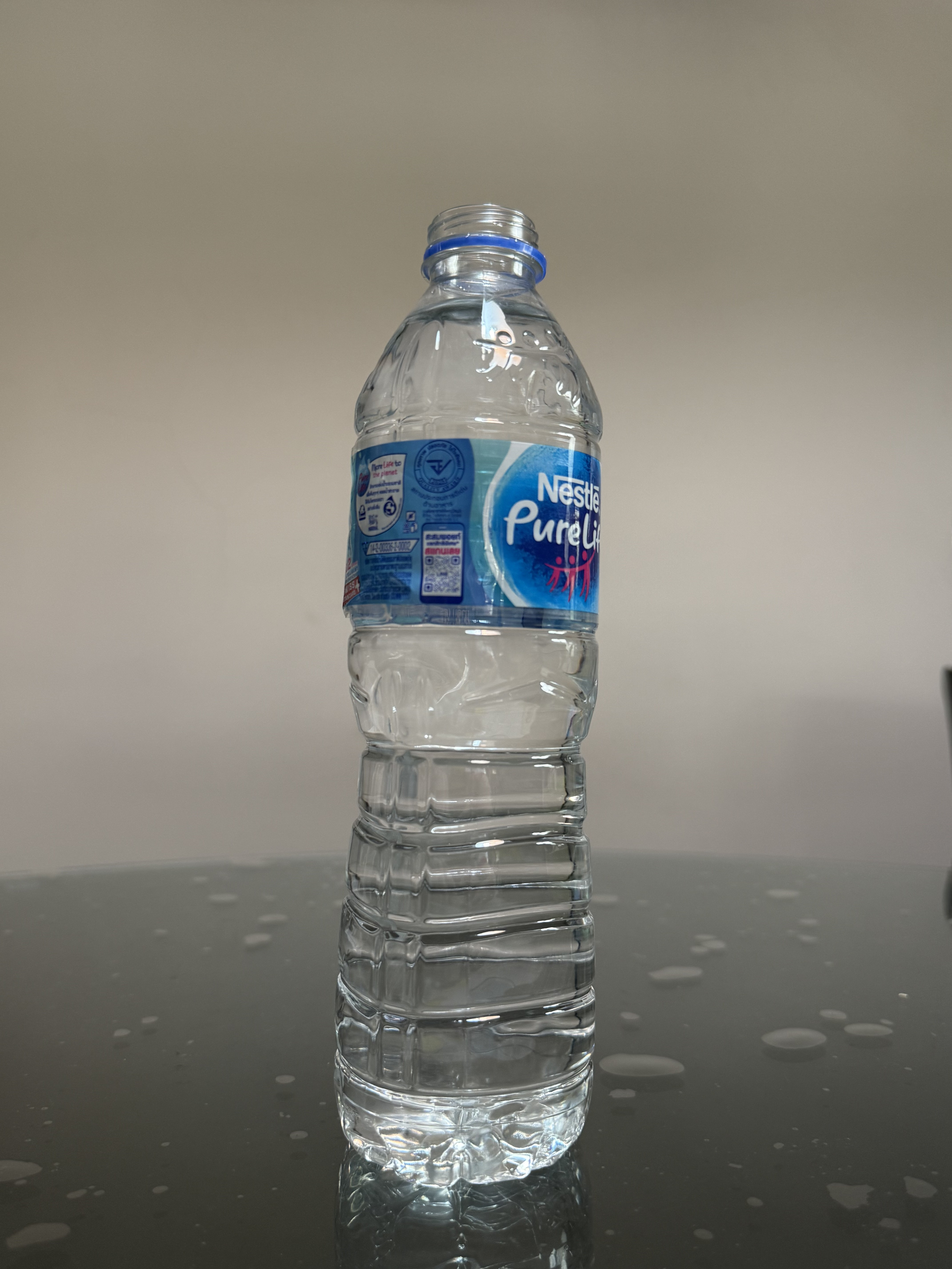no_cap: (420, 203, 548, 282)
